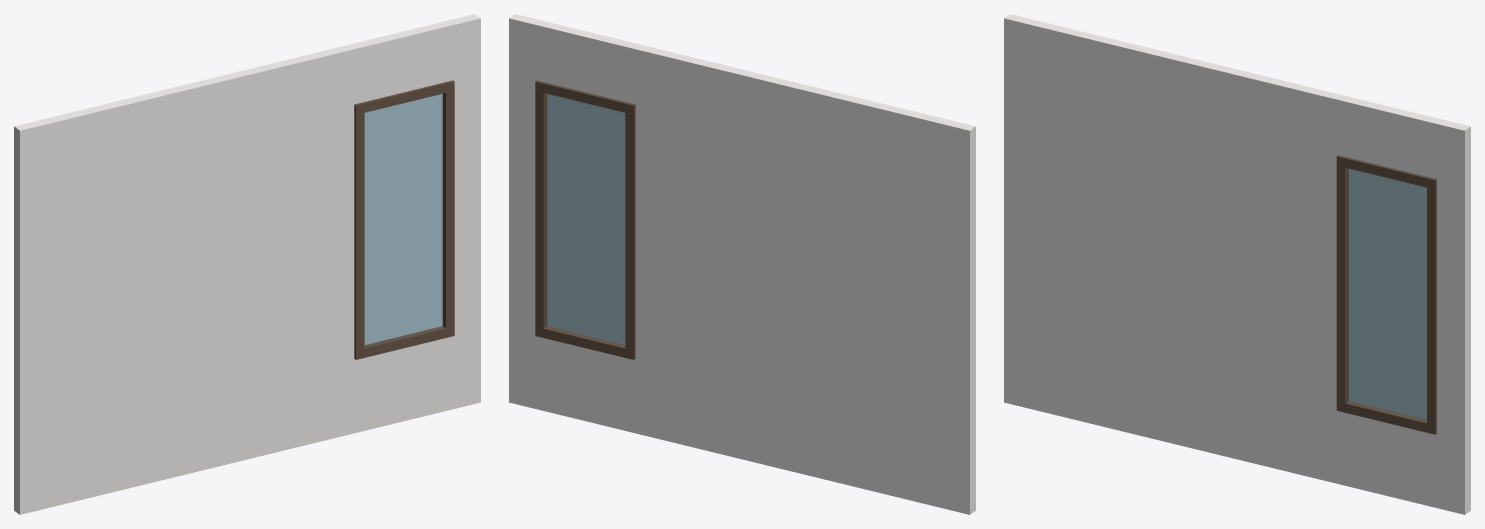
File: Wall_12.fbx
3 views of the same model, side by side, from view 1: azimuth 30°, elevation 25°; view 2: azimuth 150°, elevation 25°; view 3: azimuth 330°, elevation 25° (orthographic).
Visible parts, largest first — view 1: Wall_12; view 2: Wall_12; view 3: Wall_12.
Boxes of the visible parts, x1=… form: Wall_12: x1=14, y1=14, x2=480, y2=514; Wall_12: x1=509, y1=14, x2=975, y2=514; Wall_12: x1=1004, y1=14, x2=1470, y2=514.
Bounding box in the file's own units: 489 × 17.02 × 390.
